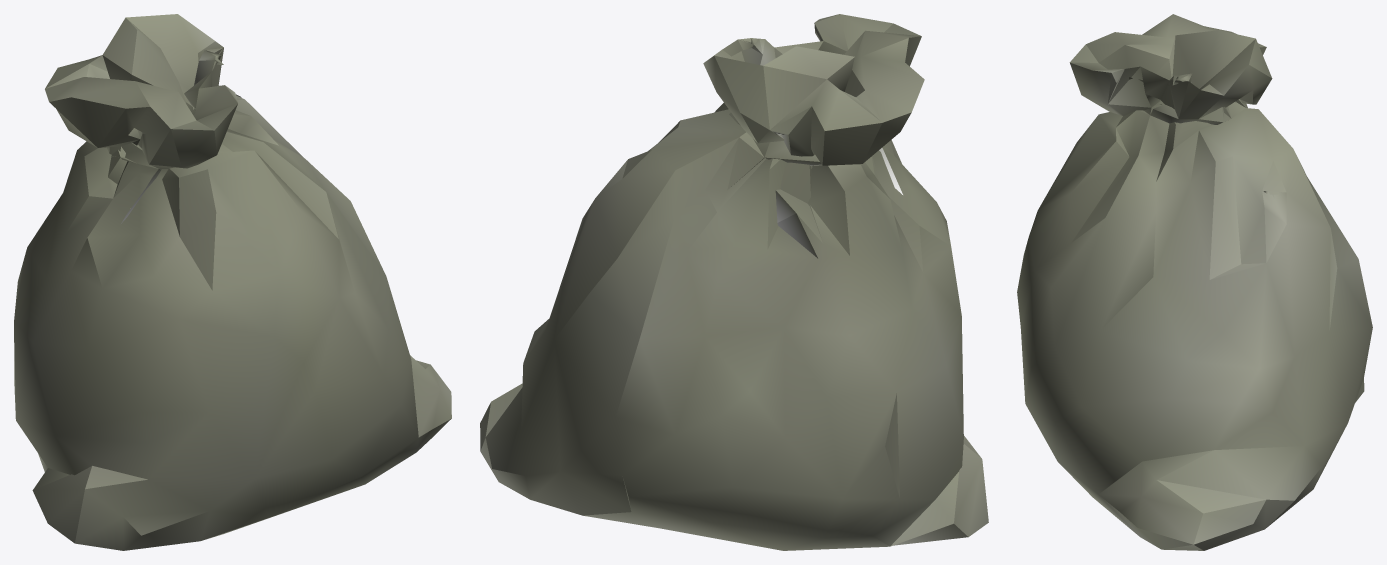
File: Sack02.fbx
3 renders of one model, left to right at view 1: azimuth 30°, elevation 25°; view 2: azimuth 150°, elevation 25°; view 3: azimuth 270°, elevation 25°, orthographic. The views are drawn at different scales.
Visible parts, largest first — view 1: Sack02; view 2: Sack02; view 3: Sack02.
Boxes of the visible parts, box(x1,y1,x2,y2) form: Sack02: box(14, 14, 451, 550); Sack02: box(480, 14, 988, 550); Sack02: box(1017, 14, 1372, 550).
Size of the model in its own units: 59.37 by 61.03 by 47.92.
